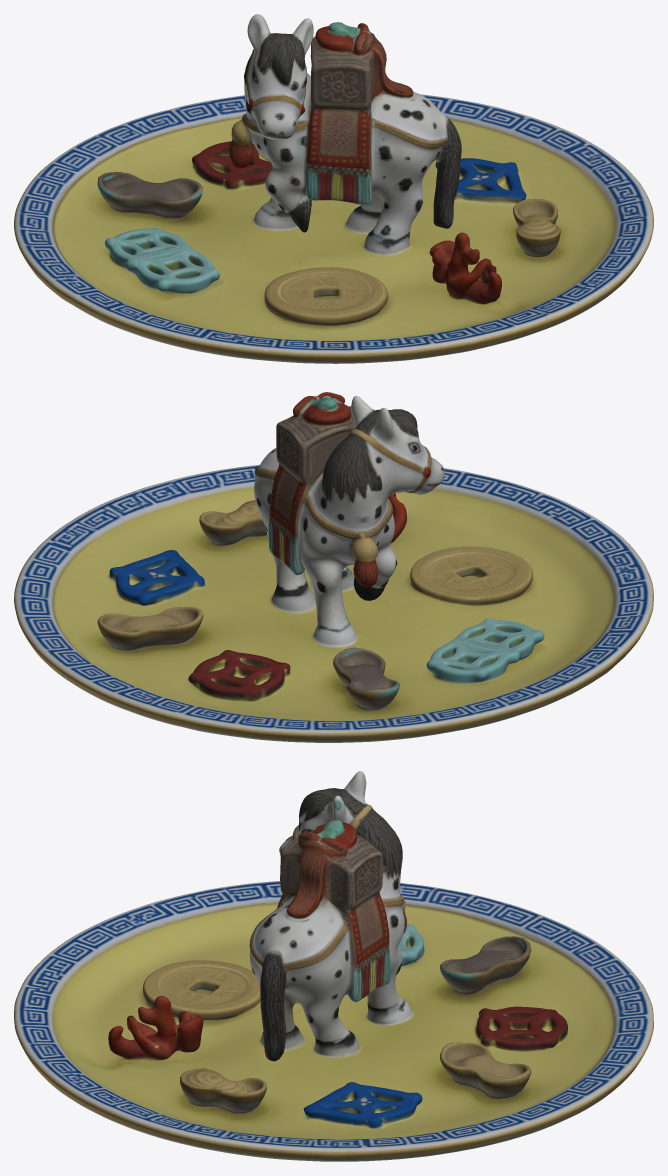
File: 黃地粉彩寶馬香插.glb
3 renders of one model, top to bottom at view 1: azimuth 30°, elevation 25°; view 2: azimuth 150°, elevation 25°; view 3: azimuth 270°, elevation 25°, orthographic.
Visible parts, largest first — view 1: tripo_node_68f7ed8d; view 2: tripo_node_68f7ed8d; view 3: tripo_node_68f7ed8d.
Boxes of the visible parts, <box> form: tripo_node_68f7ed8d: <box>14,14,653,363</box>; tripo_node_68f7ed8d: <box>14,392,653,742</box>; tripo_node_68f7ed8d: <box>14,771,653,1161</box>.
Size of the model in its own units: 97.65 by 41.05 by 97.38.
1 material, 1 textured.
